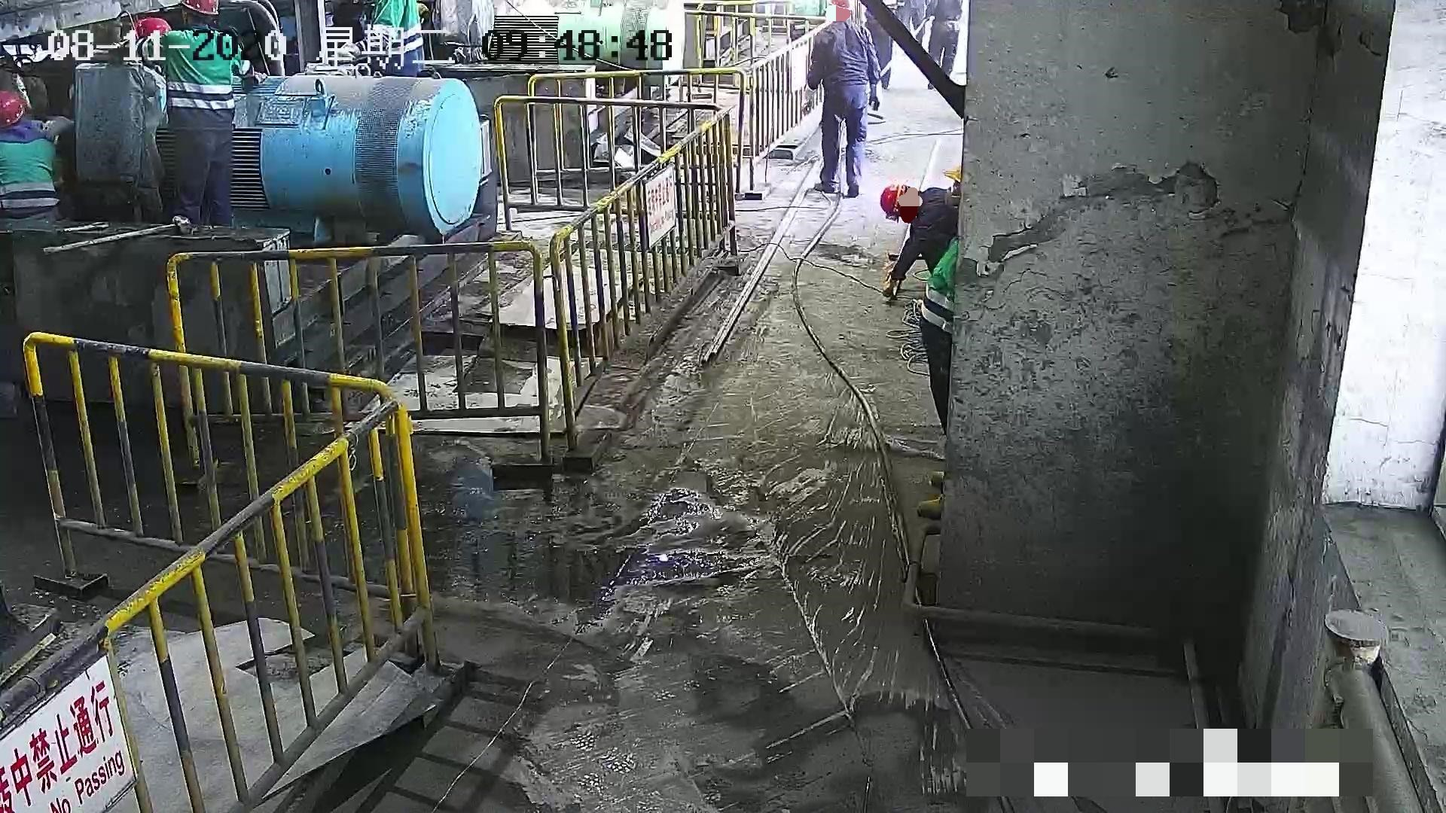hat: (878, 181, 916, 224), (179, 1, 218, 26), (2, 89, 26, 127), (825, 1, 850, 20)
person: (104, 1, 267, 227), (798, 2, 882, 197), (876, 178, 959, 297), (2, 88, 67, 222)
